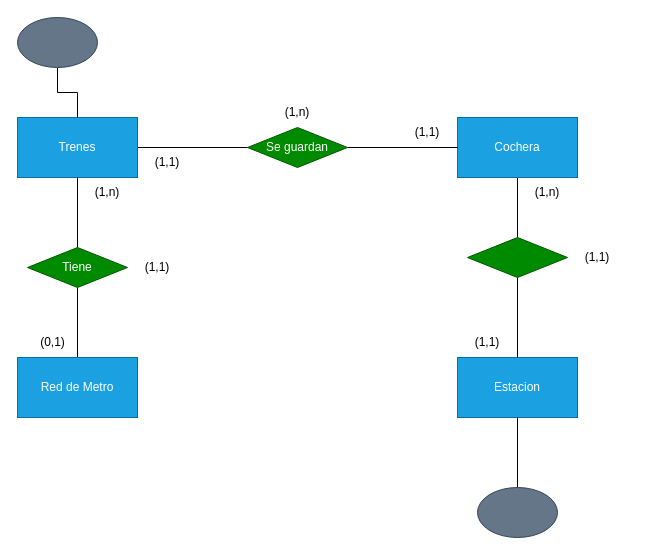
Image size: 645x555. Some labels were removed from this diagram. The centre of each missing label's shape, as x and y in pixels:
"Estan" goes at (517,257).
"Linea" goes at (57,42).
"NºOrden" goes at (517,512).
